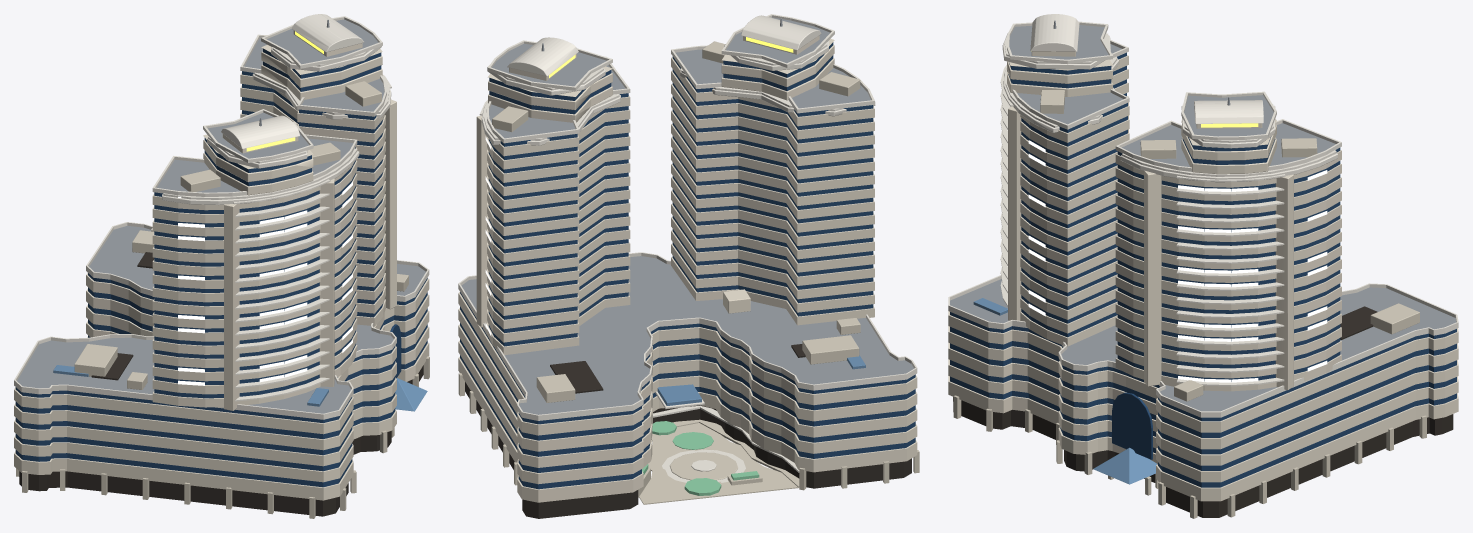
File: towers-at-rincon.optimized.glb
3 views of the same model, side by side, from view 1: azimuth 30°, elevation 25°; view 2: azimuth 150°, elevation 25°; view 3: azimuth 270°, elevation 25° (orthographic). The views are drawn at different scales.
Visible parts, largest first — view 1: grp_Toy_sand, grp_Toy_glass, grp_Toy_trim, grp_Toy_steel, grp_Toy_ink, grp_Toy_stone, grp_Toy_cream_Glow, grp_Toy_glassl; view 2: grp_Toy_sand, grp_Toy_glass, grp_Toy_steel, grp_Toy_trim, grp_Toy_stone, grp_Toy_ink, grp_Toy_mint, grp_Toy_glassl; view 3: grp_Toy_sand, grp_Toy_glass, grp_Toy_trim, grp_Toy_steel, grp_Toy_ink, grp_Toy_stone, grp_Toy_cream_Glow, grp_Toy_glassl.
Boxes of the visible parts, x1,y1,x2,y2 form: grp_Toy_sand: [14, 30, 429, 500]; grp_Toy_glass: [15, 48, 427, 487]; grp_Toy_trim: [14, 14, 429, 419]; grp_Toy_steel: [17, 19, 425, 413]; grp_Toy_ink: [19, 252, 423, 516]; grp_Toy_stone: [16, 81, 429, 518]; grp_Toy_cream_Glow: [178, 182, 352, 385]; grp_Toy_glassl: [53, 365, 427, 411]; grp_Toy_sand: [458, 35, 917, 502]; grp_Toy_glass: [460, 42, 915, 489]; grp_Toy_steel: [461, 17, 913, 414]; grp_Toy_trim: [458, 14, 917, 482]; grp_Toy_stone: [458, 41, 919, 504]; grp_Toy_ink: [465, 344, 911, 518]; grp_Toy_mint: [642, 421, 759, 495]; grp_Toy_glassl: [657, 355, 865, 405]; grp_Toy_sand: [948, 33, 1458, 501]; grp_Toy_glass: [950, 52, 1456, 487]; grp_Toy_trim: [948, 14, 1458, 417]; grp_Toy_steel: [950, 20, 1456, 411]; grp_Toy_ink: [953, 306, 1453, 517]; grp_Toy_stone: [953, 90, 1426, 518]; grp_Toy_cream_Glow: [1007, 116, 1327, 382]; grp_Toy_glassl: [973, 298, 1157, 484].
Size of the model in its own units: 109 by 89 by 109.
